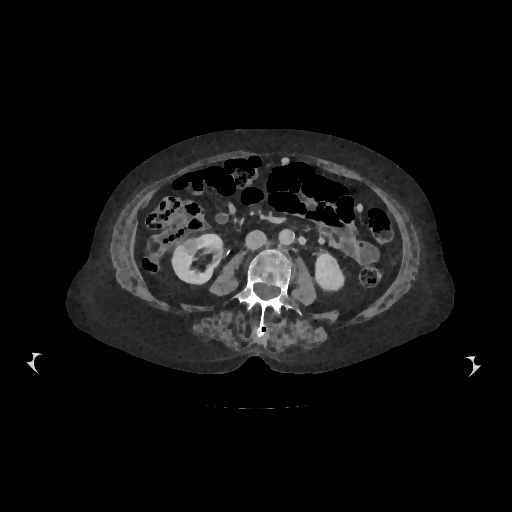Lesion: (182, 235, 197, 256)
